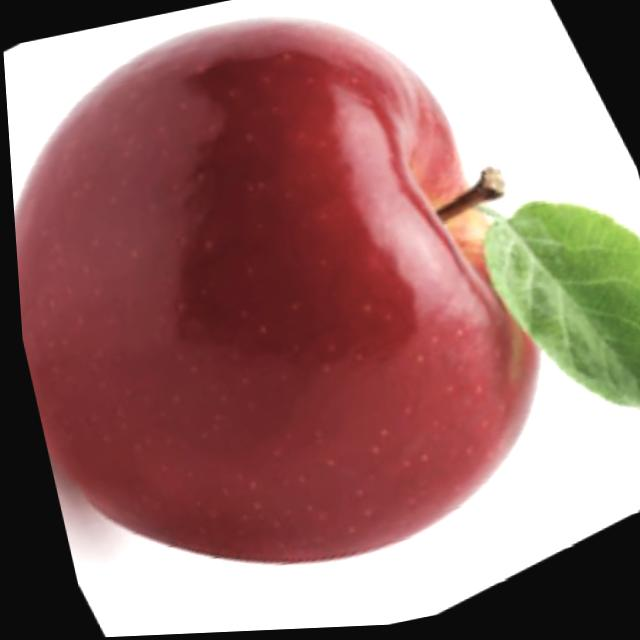organik: (0, 0, 596, 630)
